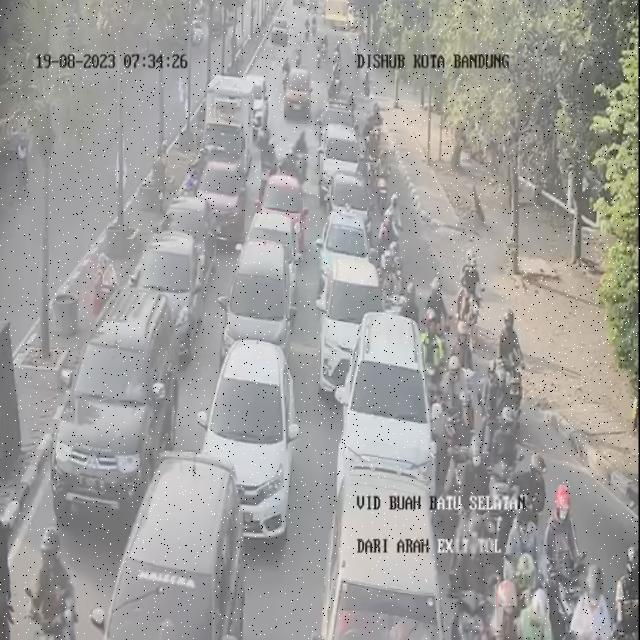cars: (58, 285, 180, 523), (93, 458, 242, 640), (338, 304, 441, 516), (198, 337, 300, 543), (326, 481, 447, 638), (318, 251, 386, 390), (221, 235, 296, 356), (135, 227, 204, 349), (260, 174, 308, 286), (322, 206, 372, 297), (167, 189, 216, 281), (197, 154, 244, 234), (328, 169, 373, 245), (319, 121, 361, 196), (284, 65, 311, 124), (319, 98, 352, 145)
motorcycle: (31, 523, 82, 640), (543, 478, 583, 620), (454, 515, 495, 640), (447, 363, 480, 494), (507, 544, 547, 640), (498, 304, 527, 424), (574, 558, 611, 640), (490, 412, 520, 504), (455, 248, 485, 320), (425, 318, 449, 396), (378, 242, 404, 311), (427, 274, 448, 350), (375, 200, 398, 269), (293, 124, 311, 190), (261, 128, 279, 188), (377, 190, 397, 235), (372, 148, 388, 198), (365, 98, 383, 142), (368, 135, 383, 186), (334, 40, 346, 80), (316, 42, 328, 71), (296, 38, 307, 68)
truck: (198, 76, 260, 184)
